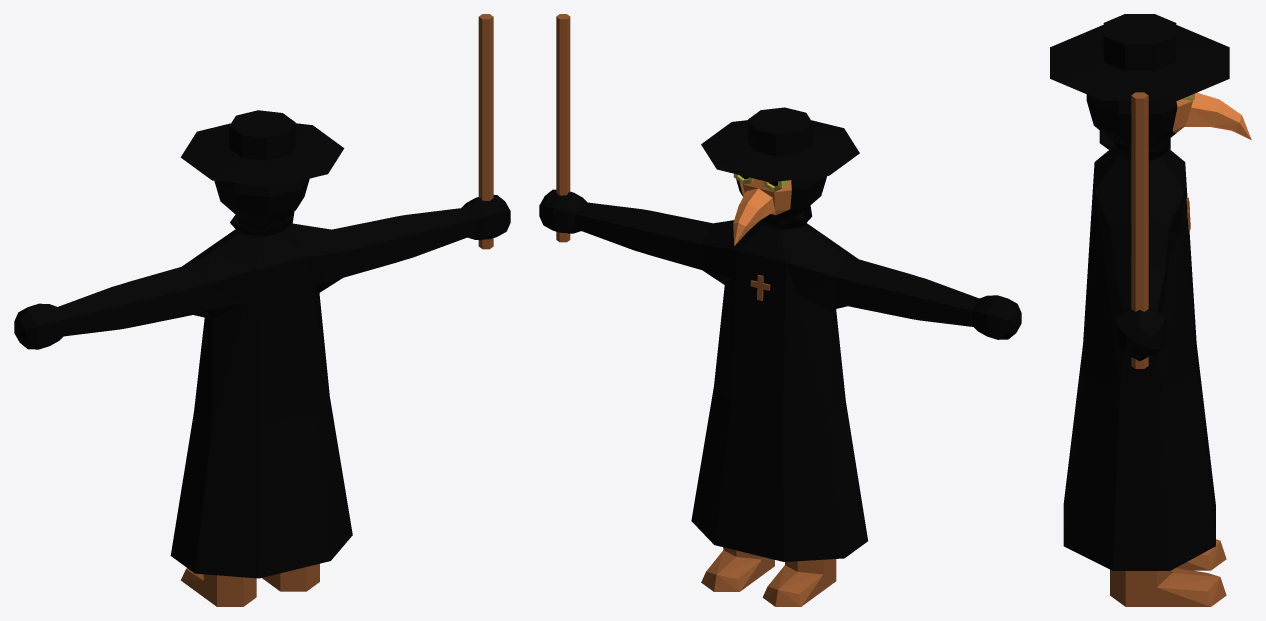
File: Healer.glb
3 views of the same model, side by side, from view 1: azimuth 30°, elevation 25°; view 2: azimuth 150°, elevation 25°; view 3: azimuth 270°, elevation 25° (orthographic). The views are drawn at different scales.
Parts seen in each view (by area): view 1: Body, Robes, Baton; view 2: Body, Robes, Baton; view 3: Body, Robes, Baton.
Part boxes in pixels (<box>): Body: <box>14,110,510,606</box>; Robes: <box>170,396,352,578</box>; Baton: <box>478,14,493,249</box>; Body: <box>539,107,1021,606</box>; Robes: <box>691,386,867,561</box>; Baton: <box>556,14,570,242</box>; Body: <box>1050,14,1251,606</box>; Robes: <box>1063,345,1215,570</box>; Baton: <box>1131,92,1148,368</box>.
Size of the model in its own units: 2.16 by 2.18 by 0.6544.
